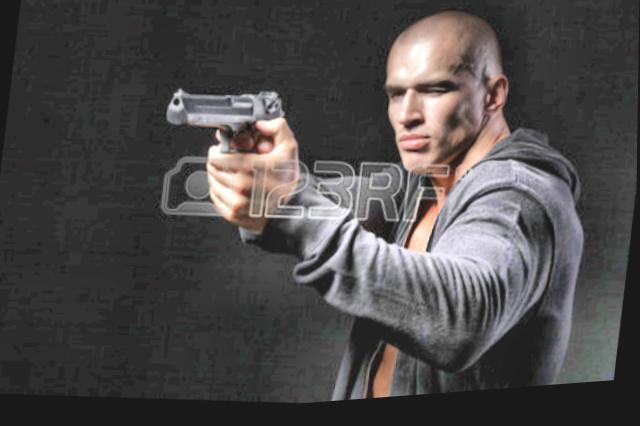pistol: (158, 83, 290, 169)
